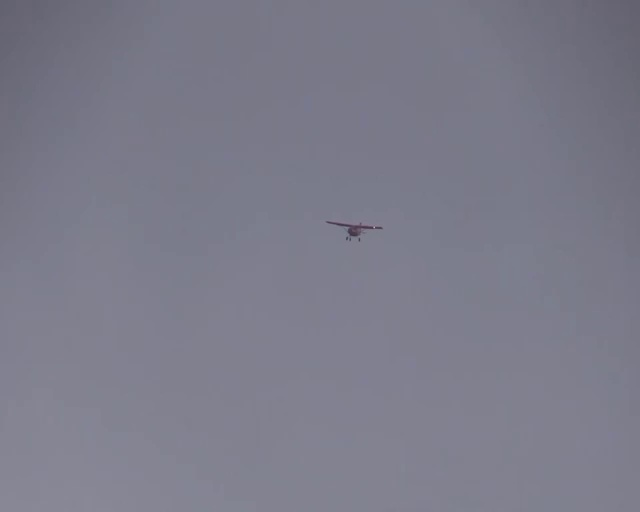AIRPLANE: (324, 219, 383, 241)
